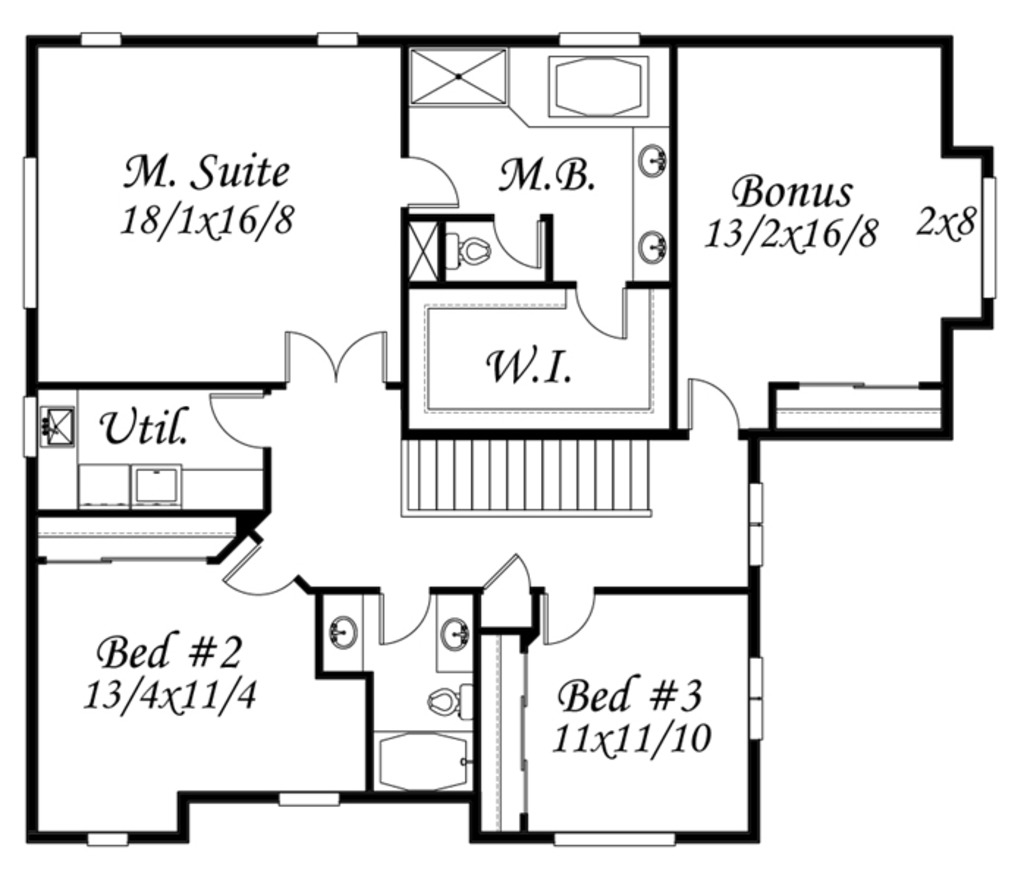door: (274, 324, 390, 398), (220, 528, 305, 596), (207, 384, 280, 452), (487, 208, 547, 279), (393, 151, 461, 212), (571, 280, 635, 344), (369, 585, 432, 648), (536, 586, 604, 644), (687, 378, 744, 439), (480, 546, 528, 595)
large_sink: (419, 676, 476, 728), (441, 233, 494, 280)
small_sink: (634, 122, 670, 282), (433, 592, 477, 681)
tub: (368, 732, 485, 797), (321, 587, 363, 678)
window: (15, 154, 49, 318), (548, 822, 683, 857), (548, 25, 648, 56), (977, 176, 999, 310), (67, 822, 130, 855), (267, 789, 343, 816), (745, 653, 767, 746), (744, 481, 767, 569), (72, 27, 125, 55), (315, 27, 358, 57)
